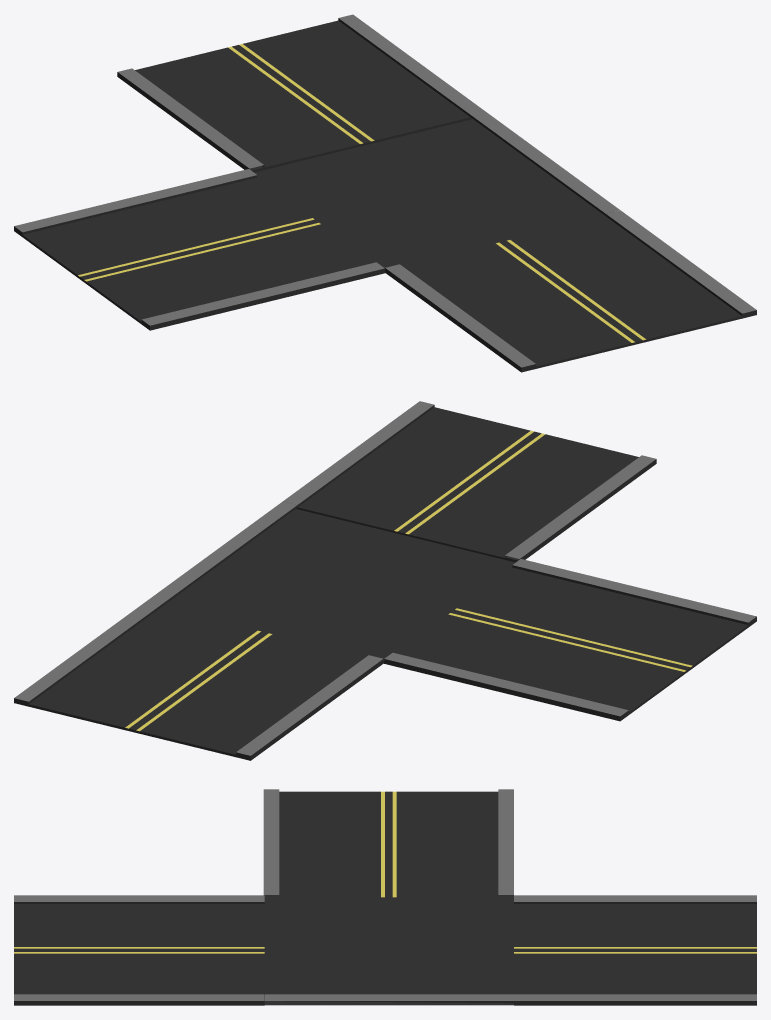
3 renders of one model, top to bottom at view 1: azimuth 30°, elevation 25°; view 2: azimuth 150°, elevation 25°; view 3: azimuth 270°, elevation 25°, orthographic. The views are drawn at different scales.
Visible parts, largest first — view 1: Cube, Cube.001; view 2: Cube, Cube.001; view 3: Cube, Cube.001.
Boxes of the visible parts, x1=… form: Cube: x1=117, y1=14, x2=756, y2=372; Cube.001: x1=14, y1=117, x2=605, y2=330; Cube: x1=14, y1=401, x2=656, y2=760; Cube.001: x1=162, y1=507, x2=756, y2=721; Cube: x1=14, y1=895, x2=756, y2=1005; Cube.001: x1=263, y1=789, x2=513, y2=1005.
Size of the model in its own units: 400 by 4 by 594.
